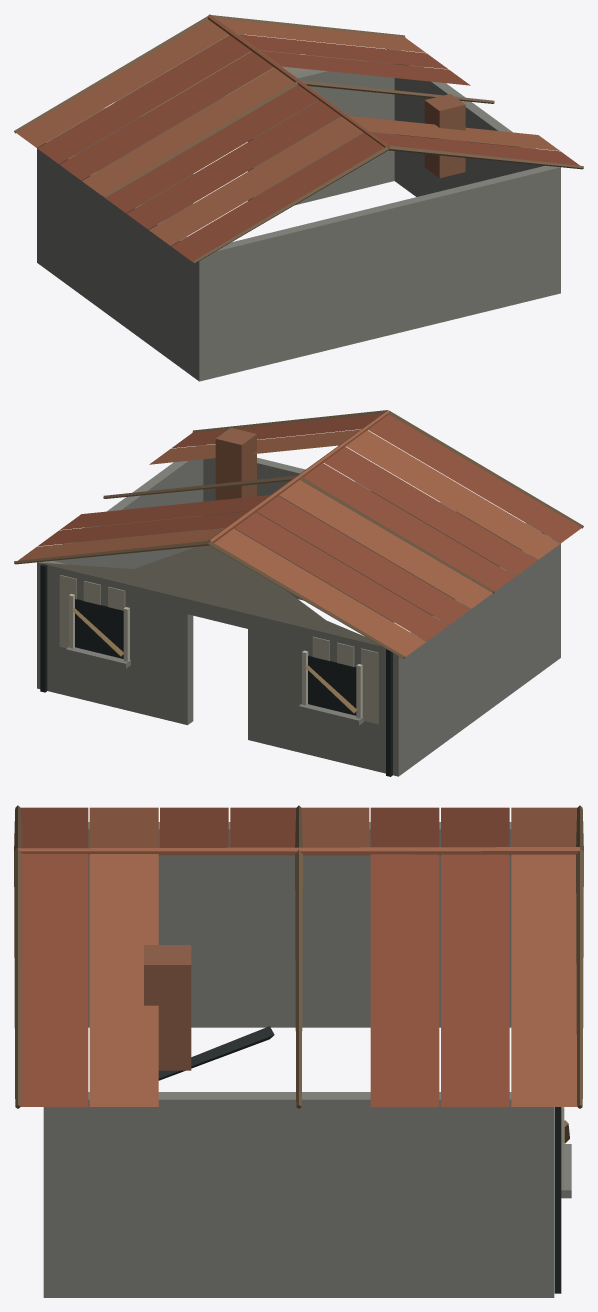
File: abandoned_b.glb
The picture shows the model from 3 angles, top to bottom: view 1: azimuth 30°, elevation 25°; view 2: azimuth 150°, elevation 25°; view 3: azimuth 270°, elevation 25°; orthographic projection. The views are drawn at different scales.
Visible parts, largest first — view 1: abandoned_b_visual; view 2: abandoned_b_visual; view 3: abandoned_b_visual.
Part boxes in pixels (<box>): abandoned_b_visual: <box>14,14,583,381</box>; abandoned_b_visual: <box>14,410,583,776</box>; abandoned_b_visual: <box>14,805,583,1297</box>.
Size of what is drawn, in the model's own units: 9.72 by 4.72 by 7.81.
